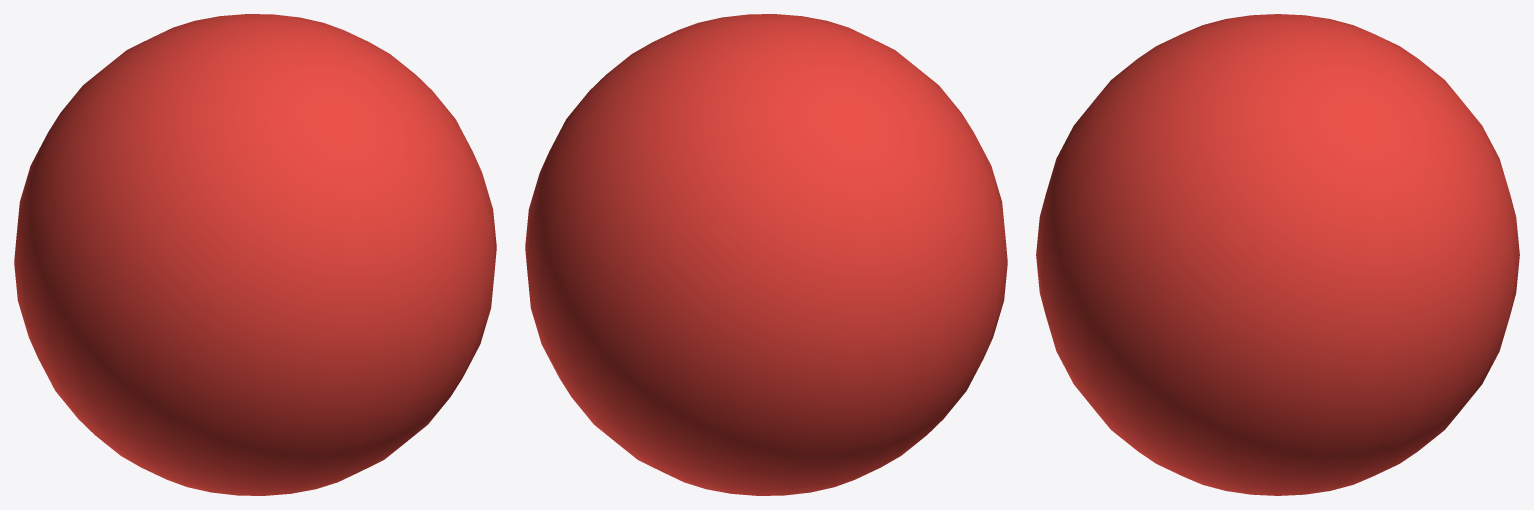
File: ball.glb
3 views of the same model, side by side, from view 1: azimuth 30°, elevation 25°; view 2: azimuth 150°, elevation 25°; view 3: azimuth 270°, elevation 25° (orthographic).
Visible parts, largest first — view 1: ball-0; view 2: ball-0; view 3: ball-0.
Part boxes in pixels (x1,y1,x2,y2): ball-0: (14, 14, 496, 495); ball-0: (525, 14, 1007, 495); ball-0: (1036, 14, 1519, 495).
Size of the model in its own units: 0.44 by 0.44 by 0.44.
